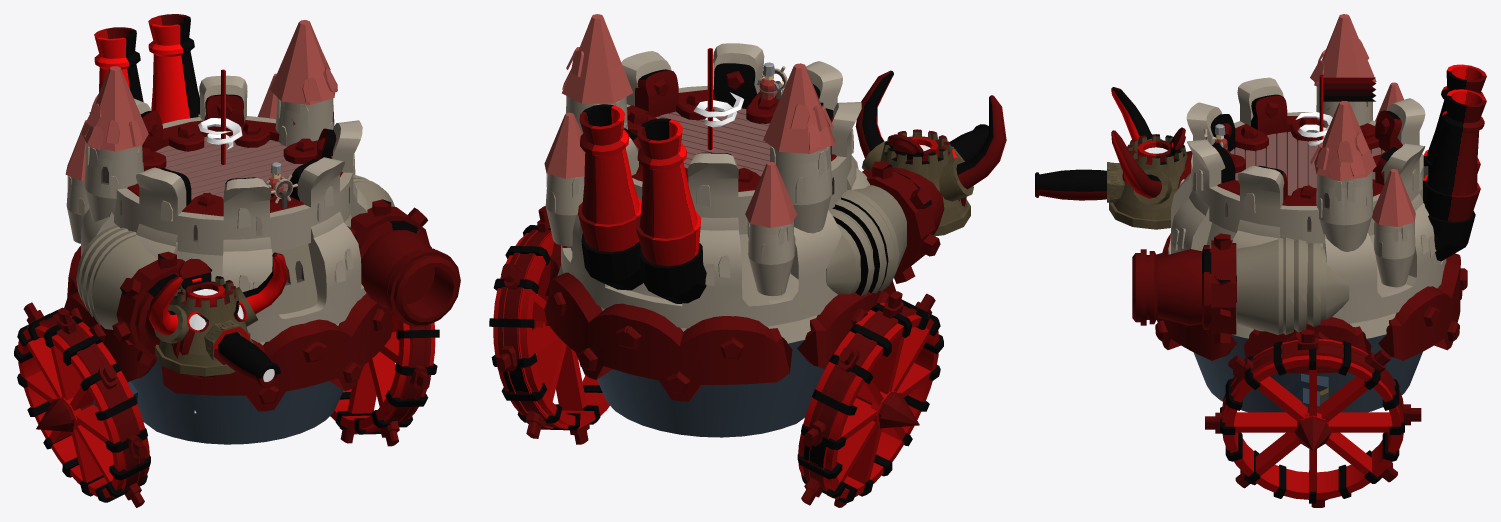
Rendered from Boss_T3_DoubleCannon.glb.
The picture shows the model from 3 angles, left to right: view 1: azimuth 30°, elevation 25°; view 2: azimuth 150°, elevation 25°; view 3: azimuth 270°, elevation 25°; orthographic projection. The views are drawn at different scales.
Parts seen in each view (by area): view 1: Top .001, Rad.059, Top .002, Bottom.024, Wanderburg_Boss0_Overhaul_008.001, Rad.056, Chimney.013, Cannon1.001, Cylinder.001, Cannon1, Wanderburg_Models_tf_Stun_001, Cylinder.002 (+2 smaller); view 2: Top .001, Rad.059, Chimney.013, Rad.056, Top .002, Bottom.024, Wanderburg_Boss0_Overhaul_008, Wanderburg_Boss0_Overhaul_008.001, Wanderburg_Models_tf_Stun_001, Cylinder.001, Cannon2.001, Cannon2; view 3: Top .001, Rad.056, Top .002, Chimney.013, Wanderburg_Boss0_Overhaul_008.001, Bottom.024, Cannon1.001, Wanderburg_Boss0_Overhaul_008, Cylinder.001, Wanderburg_tf_PlayerFlag_001.001, Cylinder.015, Cannon1 (+1 smaller).
Part boxes in pixels (x1,y1,x2,y2): Top .001: (64,20,434,411); Rad.059: (14,302,150,507); Top .002: (64,21,427,394); Bottom.024: (92,359,343,444); Wanderburg_Boss0_Overhaul_008.001: (147,252,288,376); Rad.056: (330,312,439,446); Chimney.013: (94,14,199,123); Cannon1.001: (361,230,460,326); Cylinder.001: (218,332,280,387); Cannon1: (370,230,455,324); Wanderburg_Models_tf_Stun_001: (198,118,242,149); Cylinder.002: (178,258,211,291); Top .001: (544,14,940,401); Rad.059: (797,291,943,507); Chimney.013: (578,104,706,303); Rad.056: (489,206,609,444); Top .002: (544,14,937,391); Bottom.024: (597,340,824,437); Wanderburg_Boss0_Overhaul_008: (856,71,1005,236); Wanderburg_Boss0_Overhaul_008.001: (855,70,1006,235); Wanderburg_Models_tf_Stun_001: (693,92,743,127); Cylinder.001: (949,124,988,161); Cannon2.001: (892,168,966,234); Cannon2: (892,168,966,229); Top .001: (1155,14,1467,373); Rad.056: (1205,329,1421,507); Top .002: (1156,16,1467,359); Chimney.013: (1423,64,1486,261); Wanderburg_Boss0_Overhaul_008.001: (1107,87,1186,229); Bottom.024: (1193,334,1422,412); Cannon1.001: (1132,249,1201,325); Wanderburg_Boss0_Overhaul_008: (1107,88,1187,228); Cylinder.001: (1035,169,1106,200); Wanderburg_tf_PlayerFlag_001.001: (1323,77,1375,101); Cylinder.015: (1035,170,1106,200); Cannon1: (1132,250,1190,321).
Bounding box in the file's own units: 38.2 × 39.68 × 41.62.
11 materials, 8 textured.
